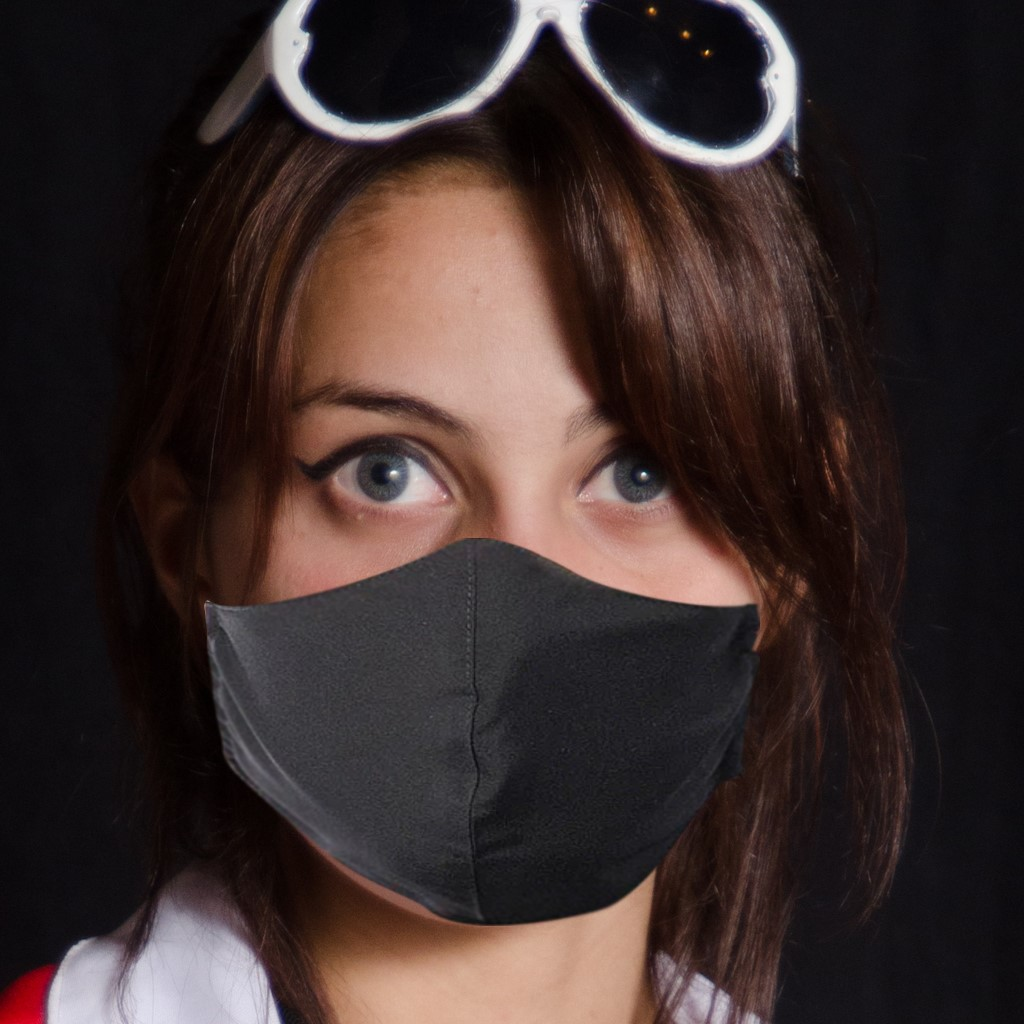con_mascara: (172, 137, 774, 921)
